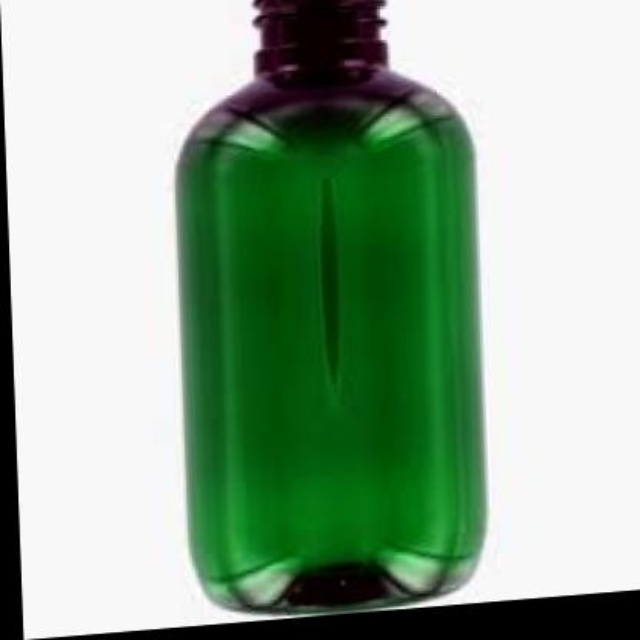trash: (177, 0, 485, 611)
